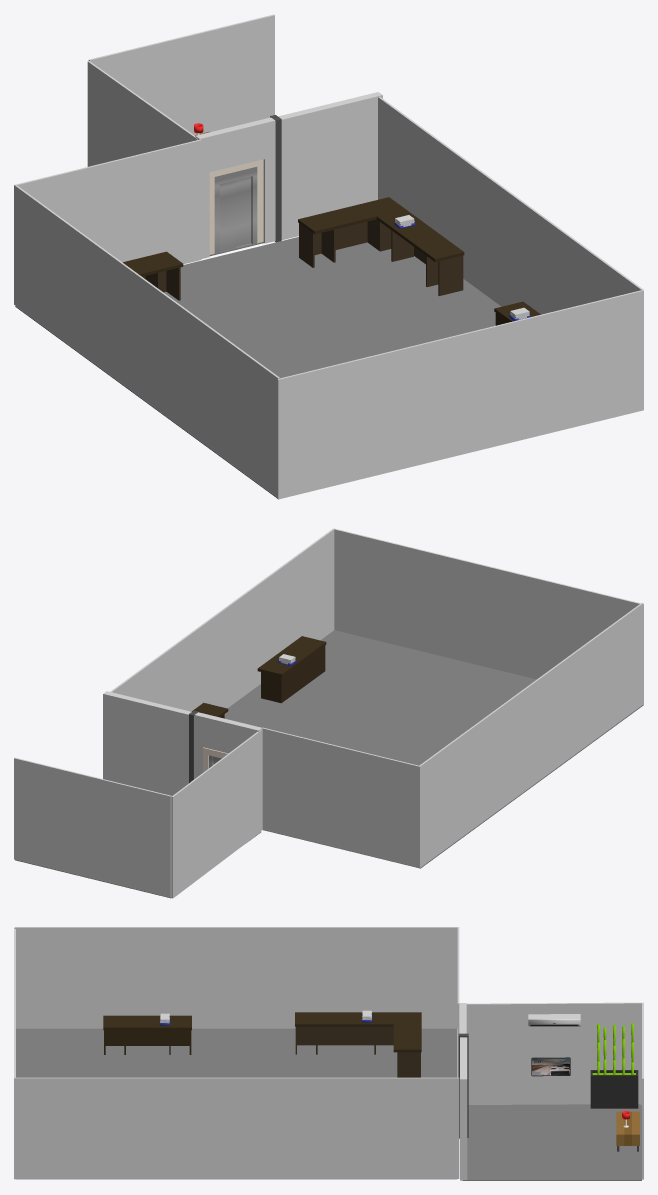
Rendered from onboarding.glb.
The picture shows the model from 3 angles, top to bottom: view 1: azimuth 30°, elevation 25°; view 2: azimuth 150°, elevation 25°; view 3: azimuth 270°, elevation 25°; orthographic projection. The views are drawn at different scales.
Parts seen in each view (by area): view 1: Wall_Small.006, Wall_Small.004, Floor.002, Wall_Small.005, Wall_Small.002, Wall_Small.001, Wall_Standard.001, Office_Desk_4_Two_Alt.002, Wall_Small.003, Wall_Standard_Door.001, right-door_Cube.001, Office_Desk_4_Two_Alt.001 (+3 smaller); view 2: Wall_Small.006, Wall_Small.004, Floor.002, Wall_Small.005, Wall_Small.001, Wall_Small.002, Wall_Small.003, Wall_Standard.001, Office_Desk_3_Alt.002, Wall_Standard_Door.001; view 3: Wall_Small.005, Wall_Small.004, Floor.002, Wall_Small.003, Floor.001, Office_Desk_4_Two_Alt.001, Office_Desk_3_Alt.001, Nature_Deco.001, Wall_Standard.001, CoffeeTable.001, Nature_Deco_Bamboo1.001, Wall_TV.001 (+4 smaller).
Part boxes in pixels (x1=…): Wall_Small.006: x1=277, y1=290, x2=643, y2=499; Wall_Small.004: x1=14, y1=184, x2=279, y2=496; Floor.002: x1=15, y1=237, x2=501, y2=497; Wall_Small.005: x1=378, y1=96, x2=643, y2=314; Wall_Small.002: x1=16, y1=139, x2=201, y2=264; Wall_Small.001: x1=88, y1=14, x2=274, y2=134; Wall_Standard.001: x1=275, y1=92, x2=382, y2=241; Office_Desk_4_Two_Alt.002: x1=298, y1=197, x2=464, y2=295; Wall_Small.003: x1=87, y1=61, x2=197, y2=166; Wall_Standard_Door.001: x1=195, y1=117, x2=275, y2=258; right-door_Cube.001: x1=219, y1=176, x2=251, y2=251; Office_Desk_4_Two_Alt.001: x1=123, y1=251, x2=183, y2=300; Wall_Small.006: x1=334, y1=528, x2=643, y2=705; Wall_Small.004: x1=418, y1=603, x2=643, y2=867; Floor.002: x1=224, y1=630, x2=642, y2=868; Wall_Small.005: x1=110, y1=528, x2=334, y2=711; Wall_Small.001: x1=14, y1=757, x2=171, y2=897; Wall_Small.002: x1=262, y1=727, x2=419, y2=867; Wall_Small.003: x1=171, y1=730, x2=261, y2=898; Wall_Standard.001: x1=103, y1=691, x2=194, y2=796; Office_Desk_3_Alt.002: x1=257, y1=636, x2=326, y2=703; Wall_Standard_Door.001: x1=194, y1=712, x2=262, y2=830; Wall_Small.005: x1=15, y1=1077, x2=459, y2=1178; Wall_Small.004: x1=14, y1=927, x2=459, y2=1028; Floor.002: x1=16, y1=1028, x2=457, y2=1179; Wall_Small.003: x1=466, y1=1002, x2=641, y2=1104; Floor.001: x1=462, y1=1104, x2=641, y2=1180; Office_Desk_4_Two_Alt.001: x1=295, y1=1012, x2=421, y2=1077; Office_Desk_3_Alt.001: x1=103, y1=1015, x2=191, y2=1054; Nature_Deco.001: x1=590, y1=1070, x2=638, y2=1108; Wall_Standard.001: x1=460, y1=1037, x2=467, y2=1180; CoffeeTable.001: x1=616, y1=1111, x2=639, y2=1151; Nature_Deco_Bamboo1.001: x1=597, y1=1023, x2=633, y2=1074; Wall_TV.001: x1=531, y1=1057, x2=570, y2=1076.
Bounding box in the file's own units: 9.63 × 3.11 × 16.88.
8 materials, 7 textured.
